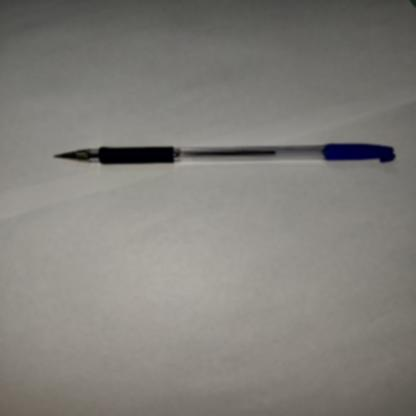pen: (59, 125, 404, 185)
